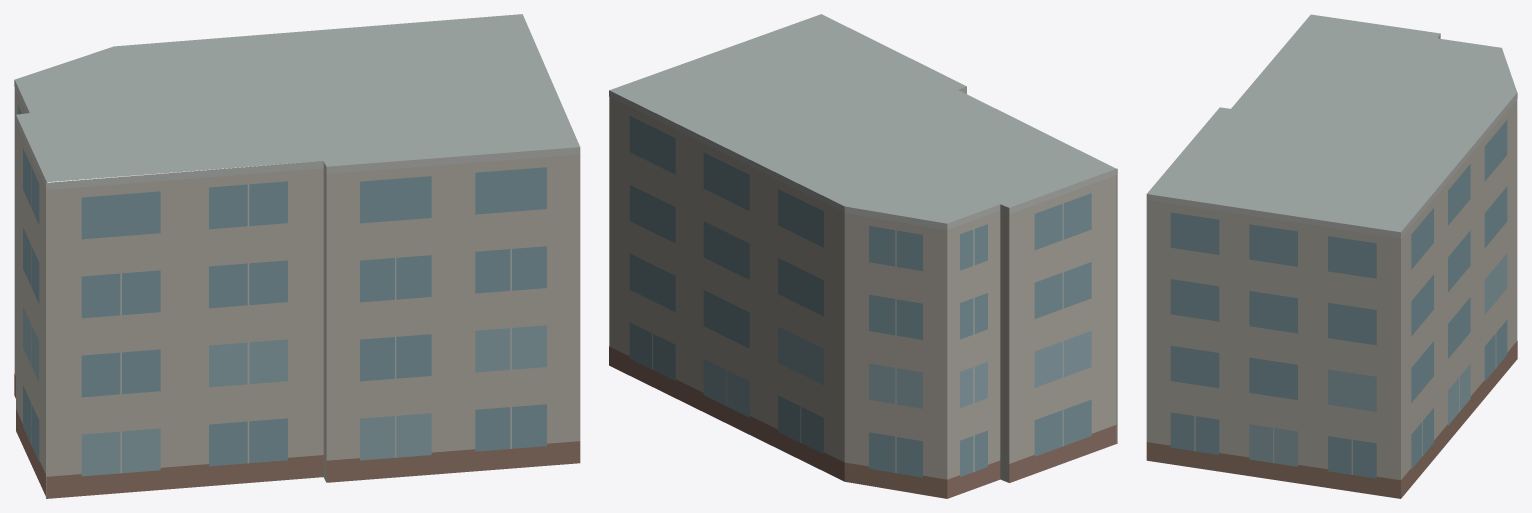
The model's file is survey-upis-32711168.glb.
The picture shows the model from 3 angles, left to right: view 1: azimuth 30°, elevation 25°; view 2: azimuth 150°, elevation 25°; view 3: azimuth 270°, elevation 25°; orthographic projection. The views are drawn at different scales.
Visible parts, largest first — view 1: survey-upis-32711168.tmp; view 2: survey-upis-32711168.tmp; view 3: survey-upis-32711168.tmp.
Boxes of the visible parts, left/top/right/bottom form: survey-upis-32711168.tmp: left=14, top=14, right=580, bottom=498; survey-upis-32711168.tmp: left=609, top=14, right=1117, bottom=498; survey-upis-32711168.tmp: left=1146, top=14, right=1517, bottom=498.
Size of the model in its own units: 18.62 by 10.6 by 13.37.
